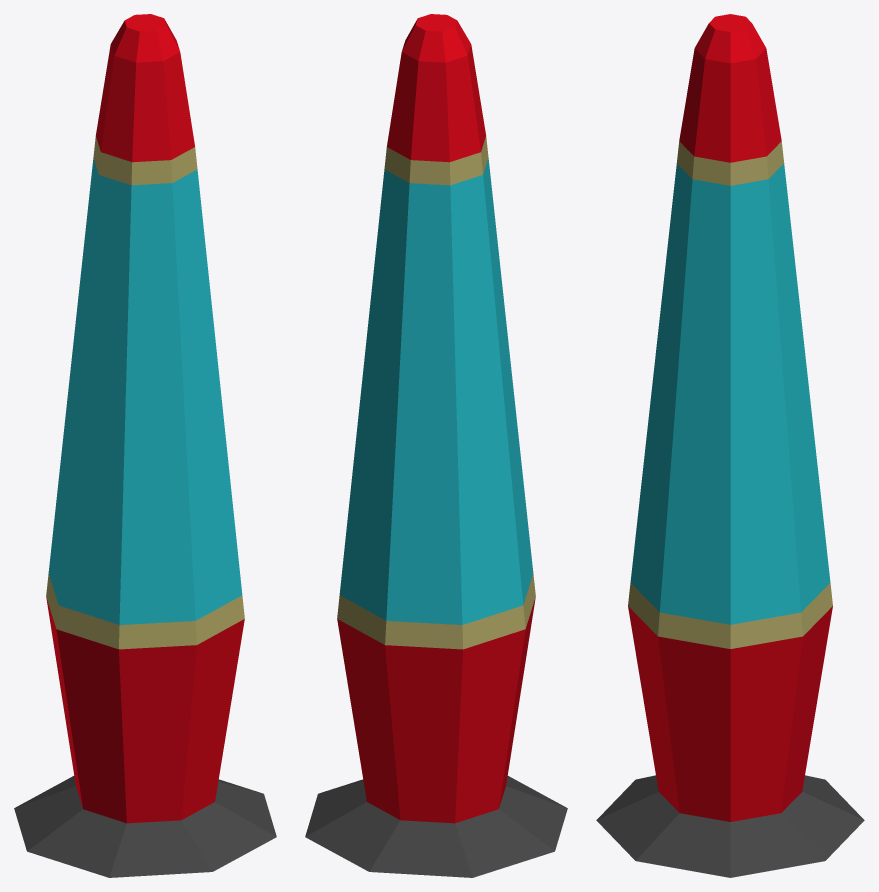
File: Lava Lamp.fbx
3 renders of one model, left to right at view 1: azimuth 30°, elevation 25°; view 2: azimuth 150°, elevation 25°; view 3: azimuth 270°, elevation 25°, orthographic.
Parts seen in each view (by area): view 1: Lava Lamp; view 2: Lava Lamp; view 3: Lava Lamp.
Boxes of the visible parts, x1,y1,x2,y2 form: Lava Lamp: (14, 14, 276, 877); Lava Lamp: (305, 14, 567, 877); Lava Lamp: (596, 14, 864, 877).
Bounding box in the file's own units: 266 × 858 × 262.
